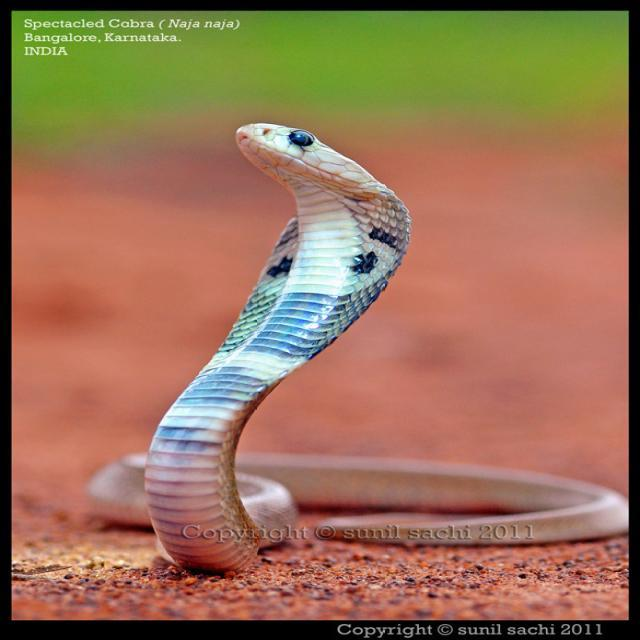Snake: (83, 113, 626, 574)
